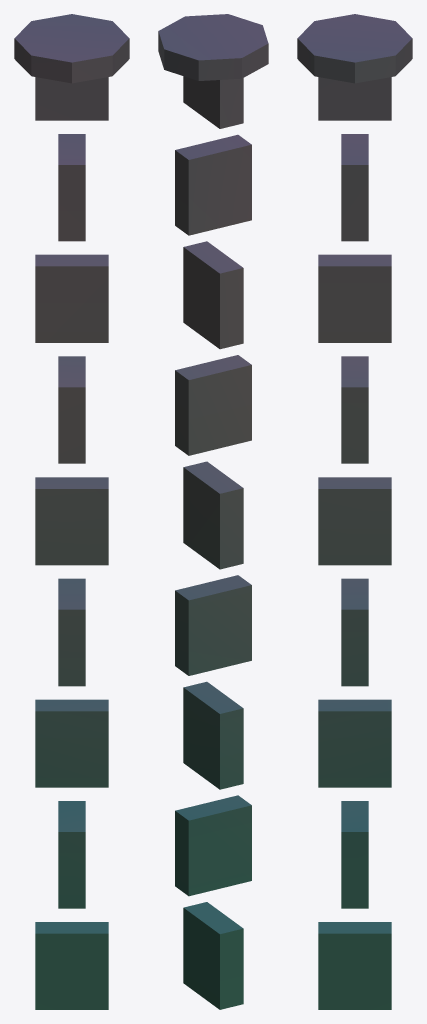
File: hanging_chain_bare.glb
3 views of the same model, side by side, from view 1: azimuth 90°, elevation 25°; view 2: azimuth 210°, elevation 25°; view 3: azimuth 270°, elevation 25° (orthographic).
Visible parts, largest first — view 1: chain; view 2: chain; view 3: chain.
Part boxes in pixels (<box>): chain: <box>14,14,129,1009</box>; chain: <box>158,14,268,1009</box>; chain: <box>297,14,412,1009</box>.
Size of the model in its own units: 0.15 by 1.39 by 0.15.
